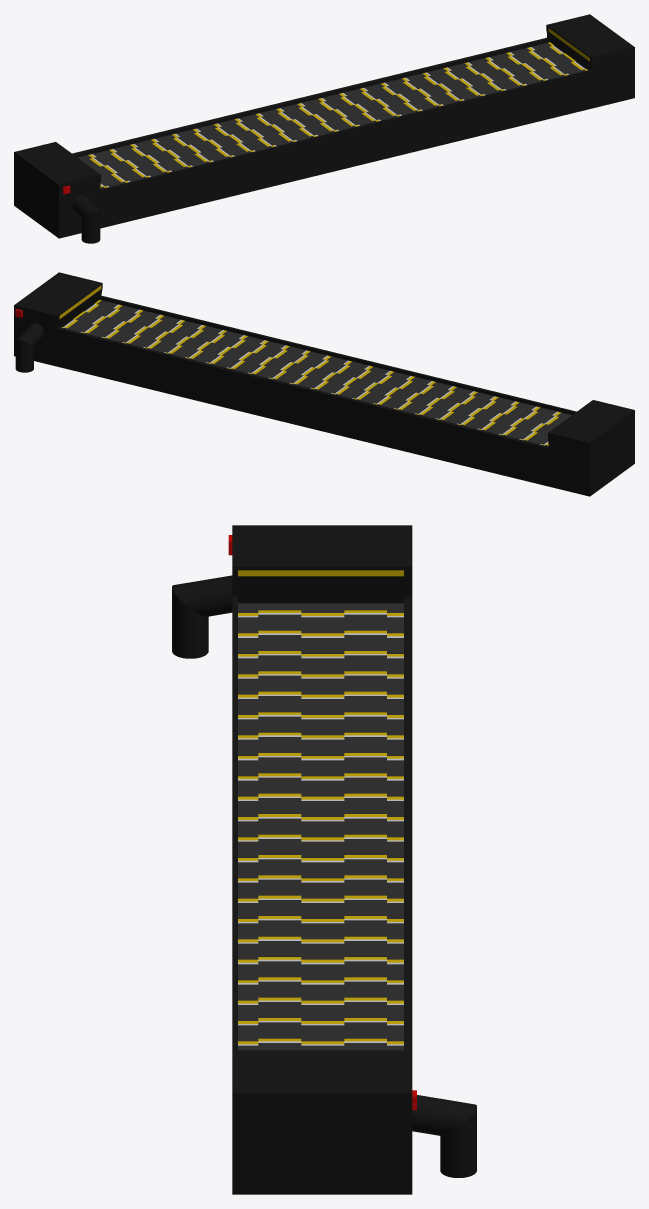
Rendered from ProductionLineDesign.obj.
The picture shows the model from 3 angles, top to bottom: view 1: azimuth 30°, elevation 25°; view 2: azimuth 150°, elevation 25°; view 3: azimuth 270°, elevation 25°; orthographic projection. The views are drawn at different scales.
Visible parts, largest first — view 1: Elbow_Joint, Plane.001; view 2: Elbow_Joint, Plane.001; view 3: Plane.001, Elbow_Joint.
Part boxes in pixels (<box>): Elbow_Joint: <box>14,14,634,243</box>; Plane.001: <box>78,42,587,188</box>; Elbow_Joint: <box>14,272,634,496</box>; Plane.001: <box>62,300,571,446</box>; Plane.001: <box>238,603,403,1050</box>; Elbow_Joint: <box>172,525,476,1194</box>.
Bounding box in the file's own units: 25.6 × 2.28 × 5.87.
